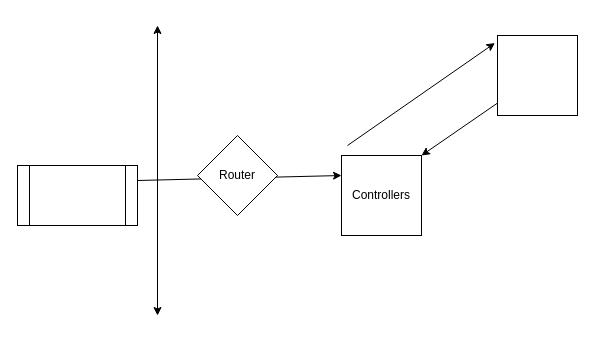
This 595x342 diagram has some shape labels left out. The shapes that lost their labels are listed below. From the top down, each one's centre as x and y in pixels, then its label:
the point at 537,75: Model
the point at 77,195: React
